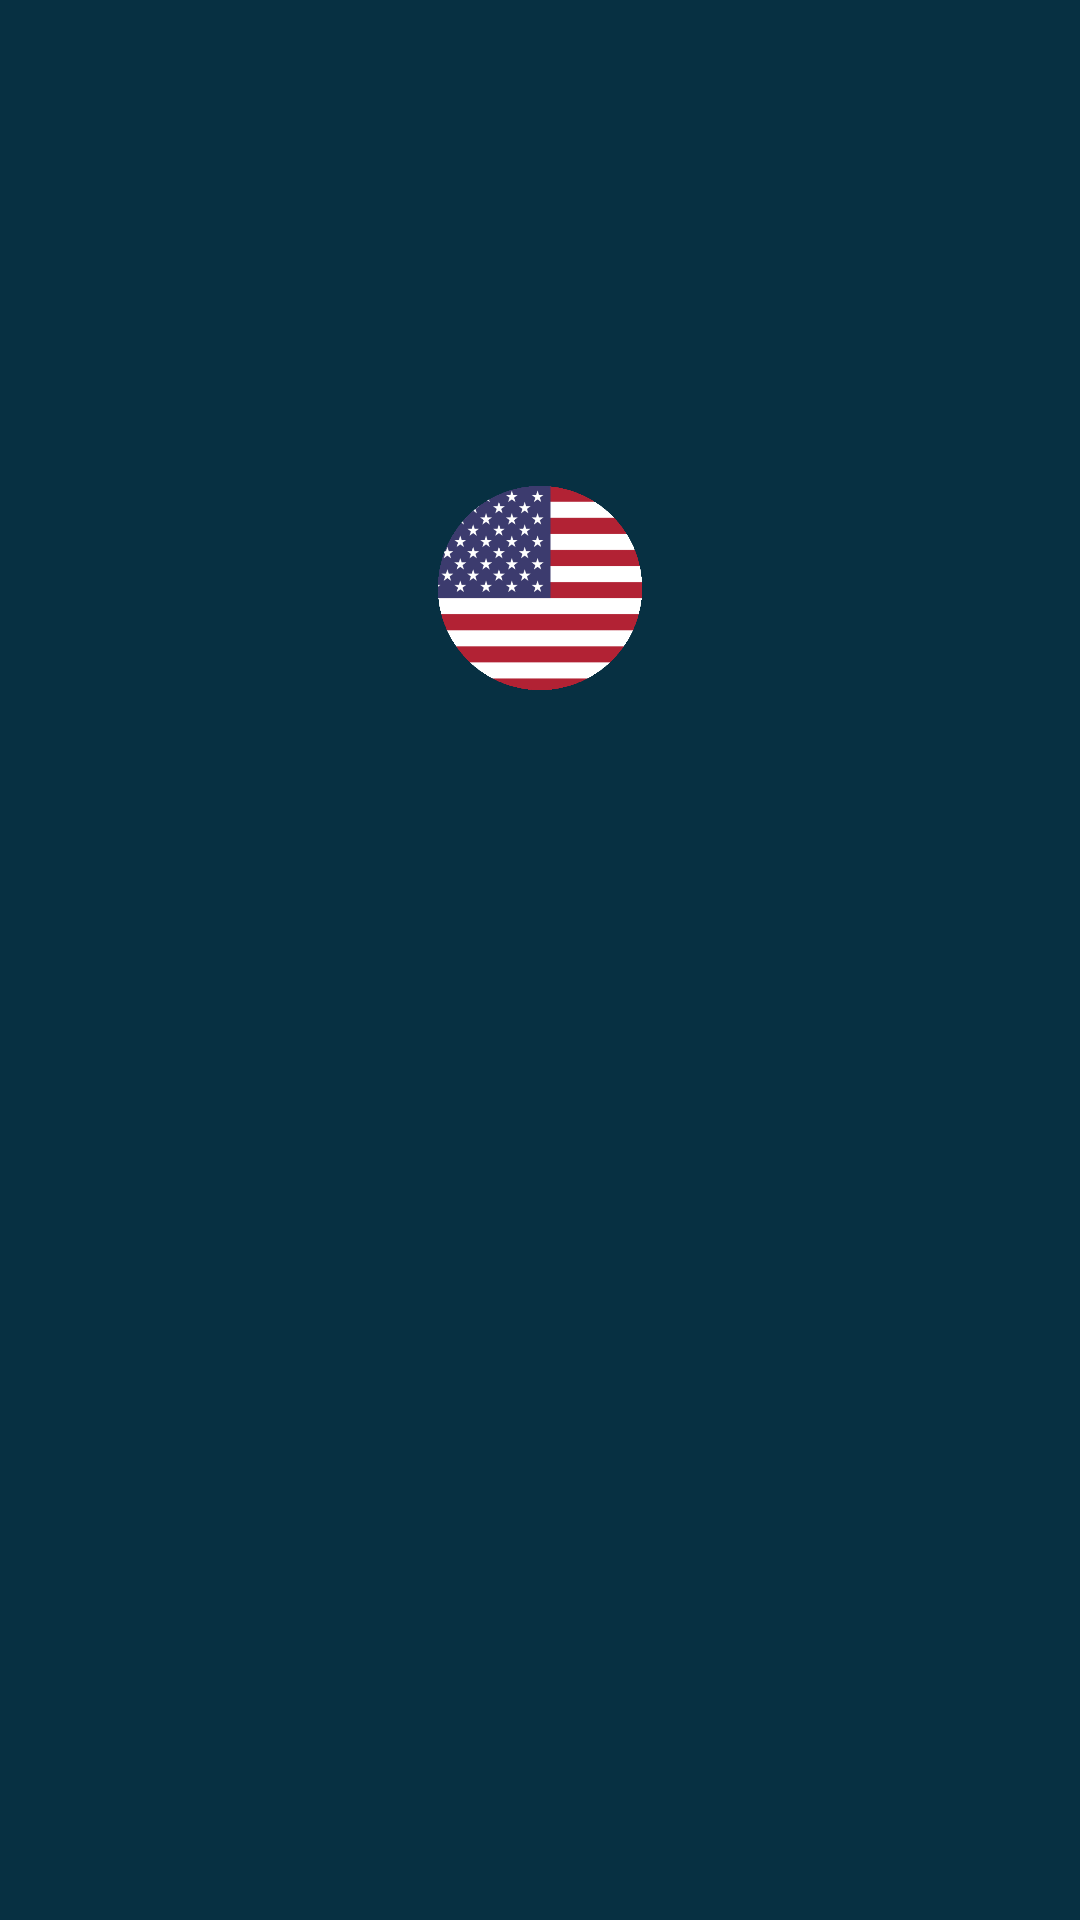

Icons on this 1080*1920 Android screen, each with the point to tap as (x=x, y=y):
usd flag circle: (x=540, y=588)
